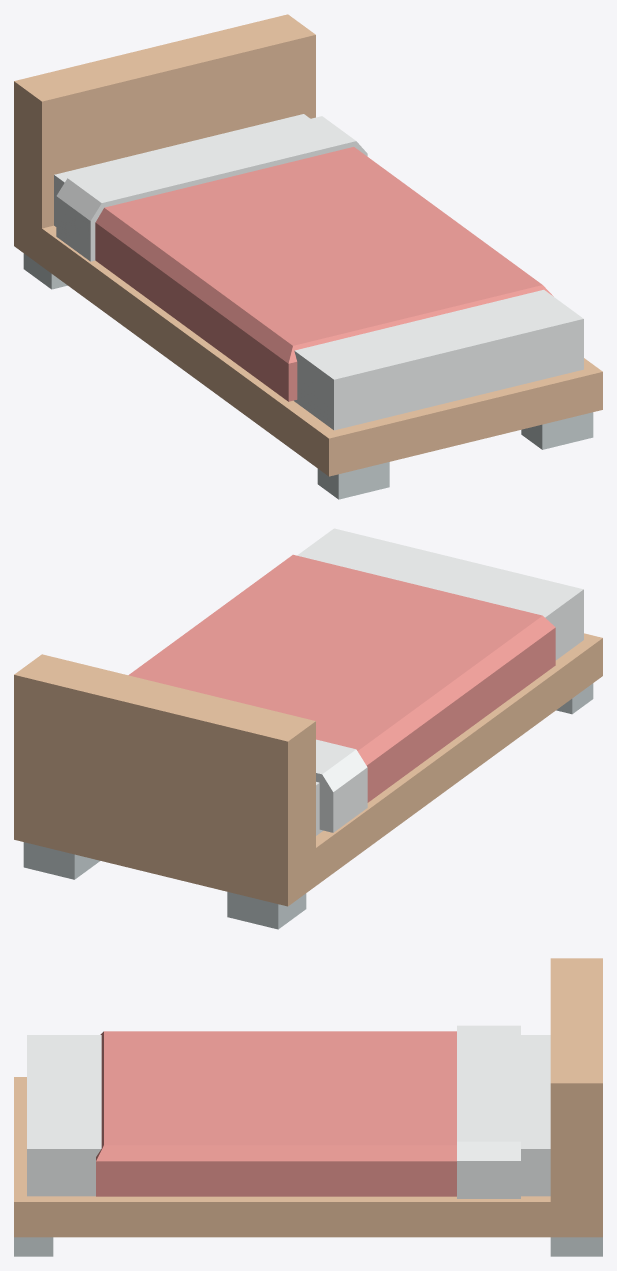
Rendered from bedSingle.glb.
The picture shows the model from 3 angles, top to bottom: view 1: azimuth 30°, elevation 25°; view 2: azimuth 150°, elevation 25°; view 3: azimuth 270°, elevation 25°; orthographic projection. The views are drawn at different scales.
Visible parts, largest first — view 1: bedSingle, bedSingle.001; view 2: bedSingle, bedSingle.001; view 3: bedSingle.001, bedSingle.
Part boxes in pixels (x1=…): bedSingle: x1=14, y1=14, x2=602, y2=499; bedSingle.001: x1=56, y1=116, x2=553, y2=401; bedSingle: x1=14, y1=528, x2=602, y2=929; bedSingle.001: x1=128, y1=554, x2=555, y2=832; bedSingle.001: x1=96, y1=1025, x2=520, y2=1198; bedSingle: x1=14, y1=958, x2=602, y2=1256.
Bounding box in the file's own units: 1.71 × 1.12 × 3.38.
